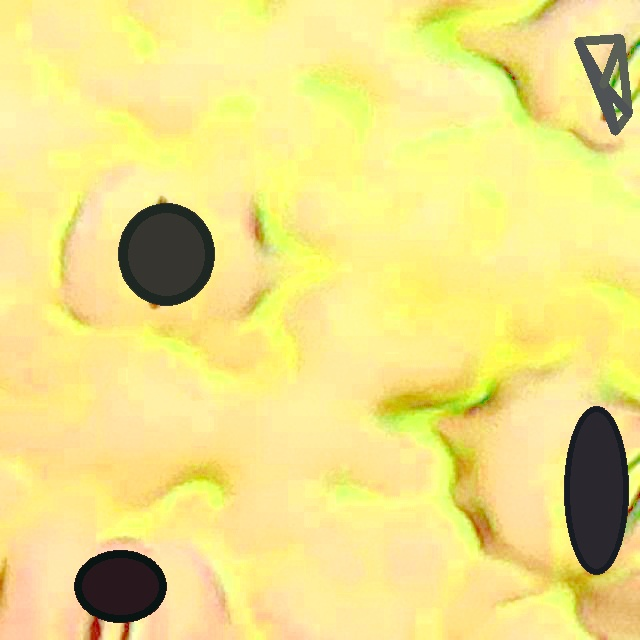open: (564, 406, 627, 575), (117, 202, 214, 305), (74, 550, 167, 622), (574, 34, 632, 135)
